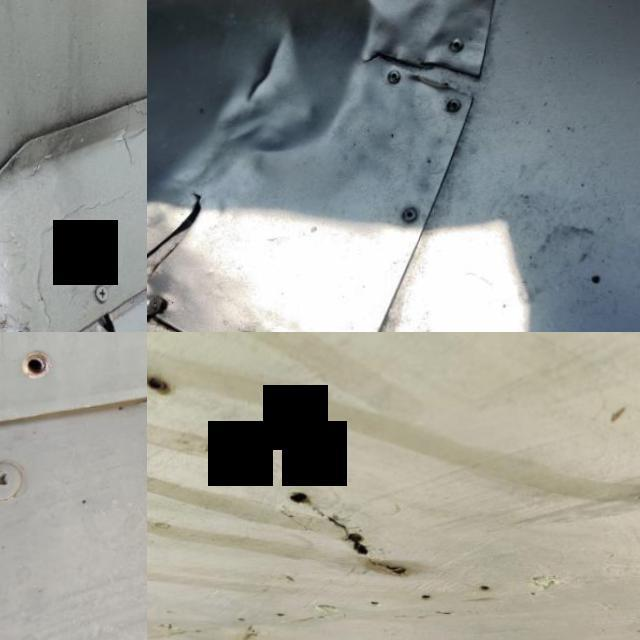Crack: (282, 477, 426, 592), (352, 38, 494, 129), (147, 180, 222, 324), (66, 280, 147, 332)
Dent: (147, 0, 395, 189)
Missing_Fastener: (8, 339, 68, 396)
